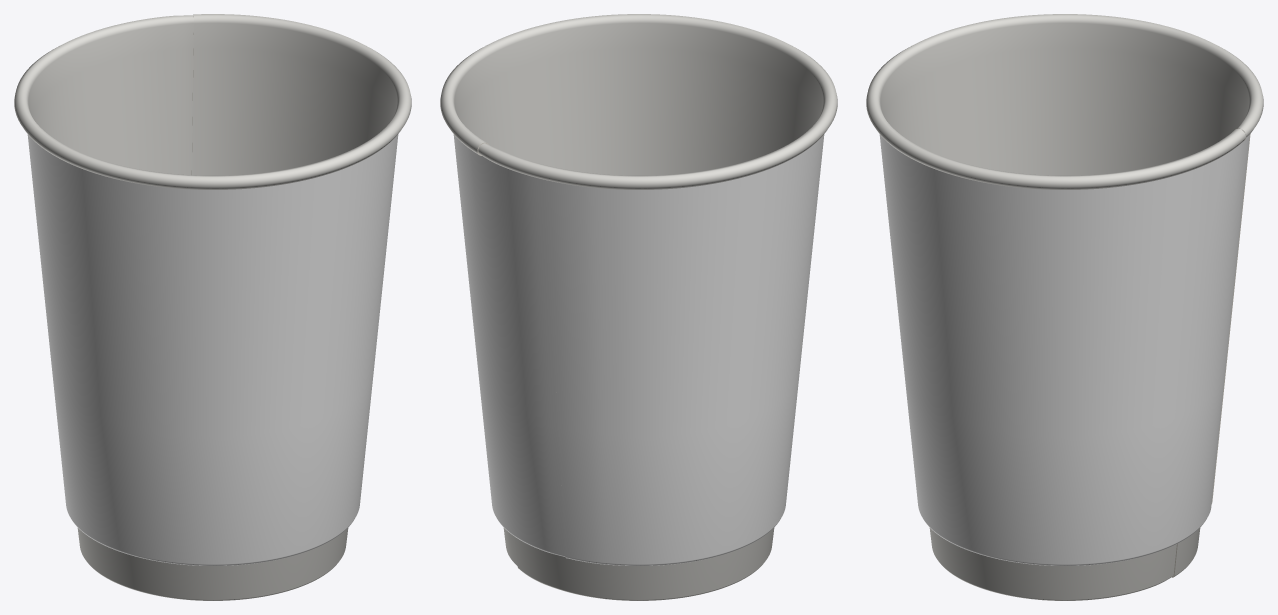
The picture shows the model from 3 angles, left to right: view 1: azimuth 30°, elevation 25°; view 2: azimuth 150°, elevation 25°; view 3: azimuth 270°, elevation 25°; orthographic projection.
Visible parts, largest first — view 1: Cup_Sleeve, Cup_Wall; view 2: Cup_Sleeve, Cup_Wall; view 3: Cup_Sleeve, Cup_Wall.
Part boxes in pixels (x1,y1,x2,y2): Cup_Sleeve: [27, 134, 398, 565]; Cup_Wall: [14, 14, 411, 600]; Cup_Sleeve: [453, 134, 824, 565]; Cup_Wall: [440, 14, 837, 600]; Cup_Sleeve: [879, 134, 1250, 565]; Cup_Wall: [866, 14, 1263, 600].
Size of the model in its own units: 0.0893 by 0.1117 by 0.0893.
3 materials, 1 textured.
